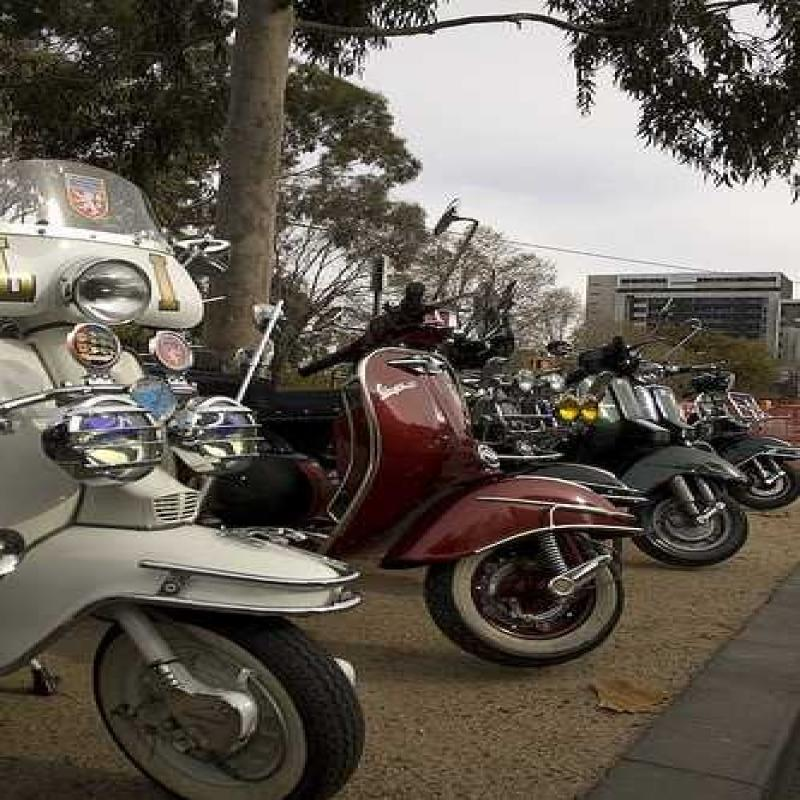bike: (8, 123, 325, 799), (273, 271, 619, 666), (548, 328, 771, 565), (689, 365, 800, 495)
